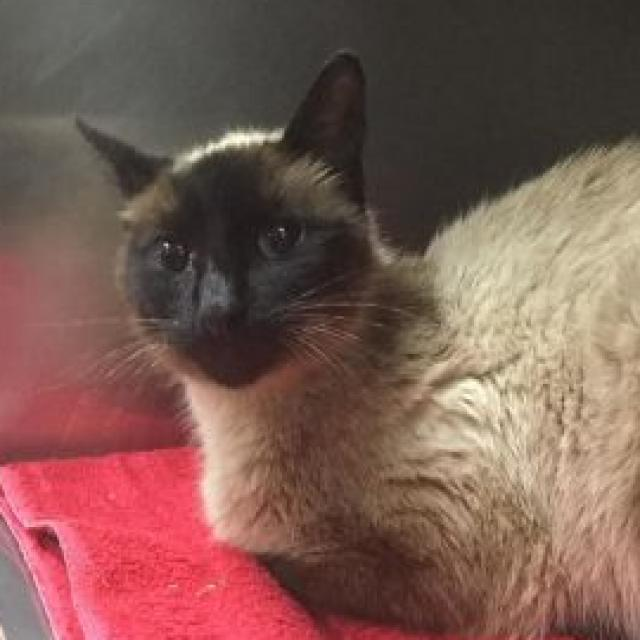Siamese: (66, 40, 640, 640)
